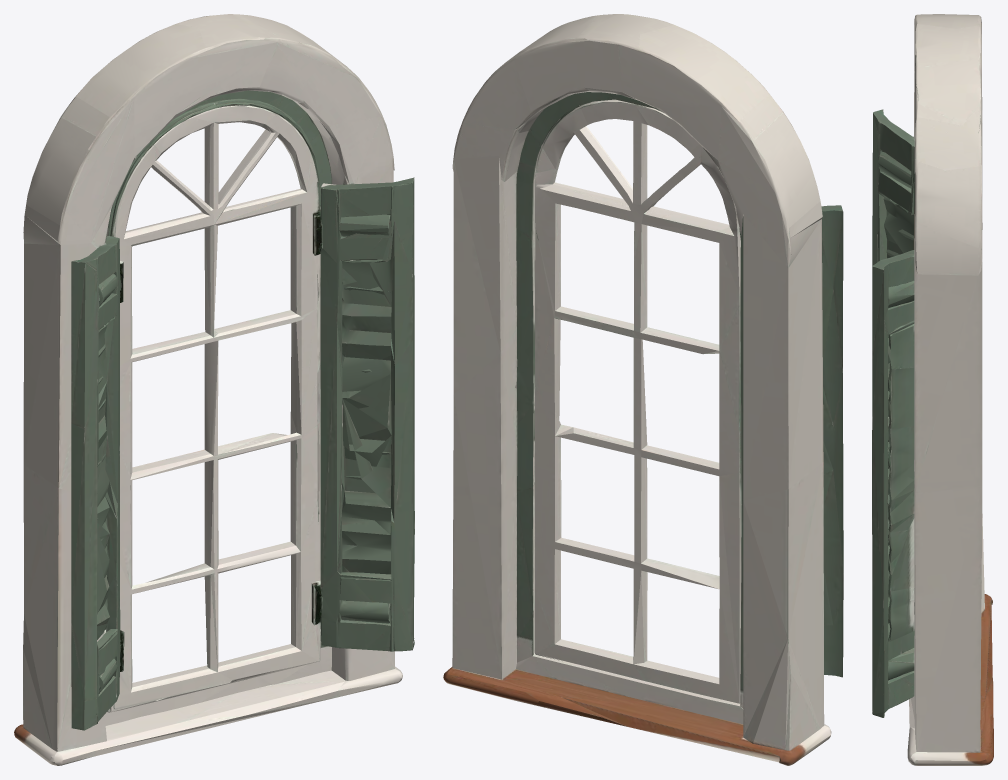
Rendered from hall-window.glb.
The picture shows the model from 3 angles, left to right: view 1: azimuth 30°, elevation 25°; view 2: azimuth 150°, elevation 25°; view 3: azimuth 270°, elevation 25°; orthographic projection. The views are drawn at different scales.
Size of the model in its own units: 1.03 by 1.9 by 0.3207.
Materials: 1 (1 with a texture image).
